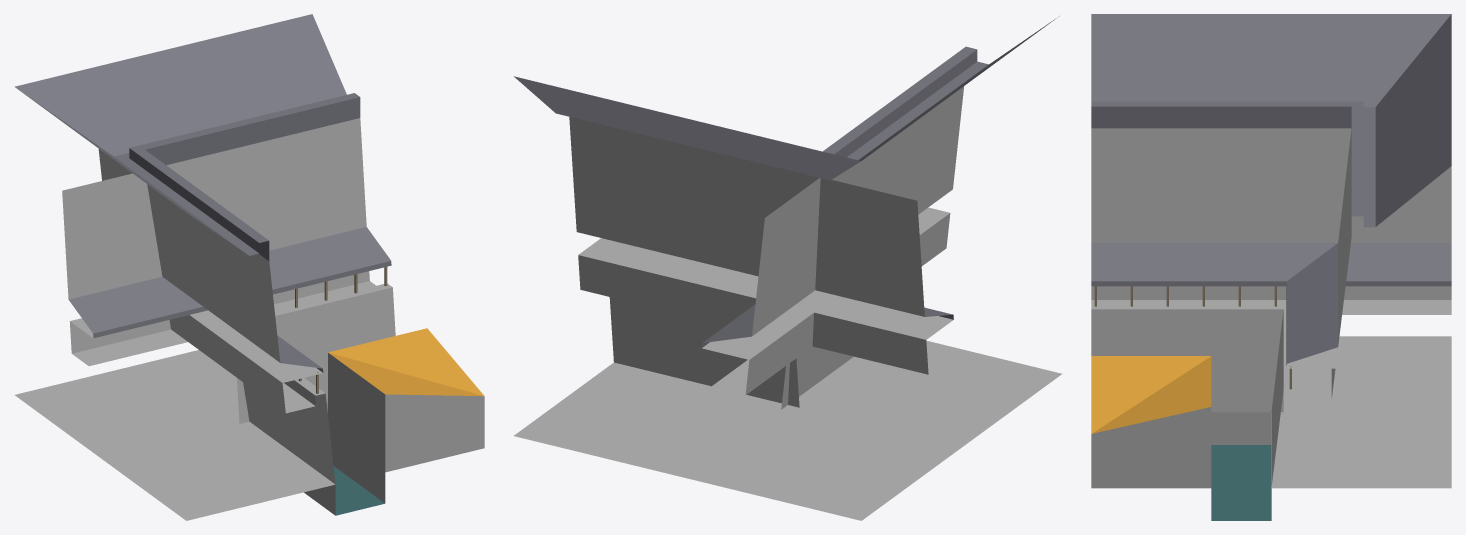
3 renders of one model, left to right at view 1: azimuth 30°, elevation 25°; view 2: azimuth 150°, elevation 25°; view 3: azimuth 270°, elevation 25°, orthographic. The views are drawn at different scales.
Parts seen in each view (by area): view 1: cc2c; view 2: cc2c; view 3: cc2c.
Part boxes in pixels (box(x1,y1,x2,y2)): cc2c: box(14, 14, 484, 520); cc2c: box(514, 16, 1062, 520); cc2c: box(1091, 14, 1451, 520).
Bounding box in the file's own units: 30 × 32.63 × 30.
